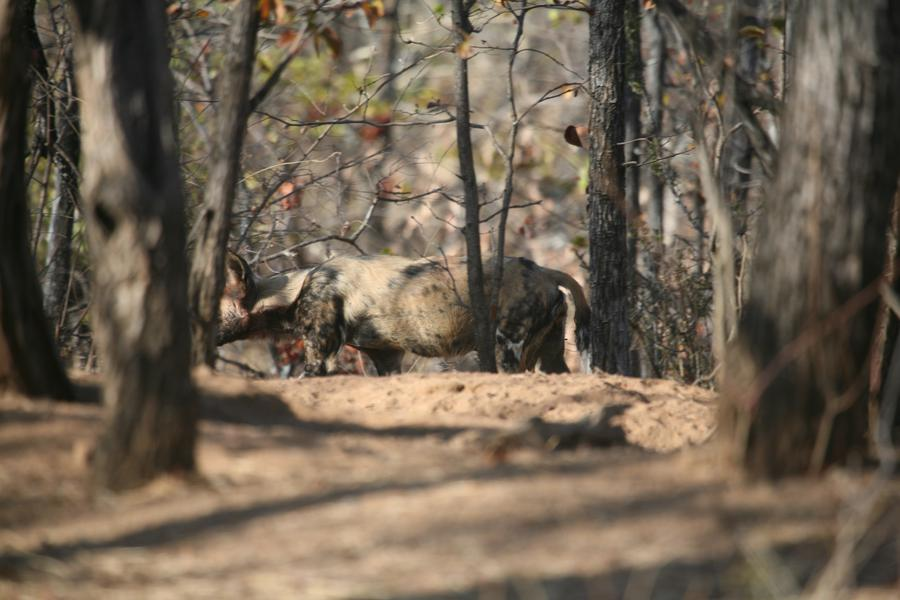wilddog: (218, 239, 564, 360)
